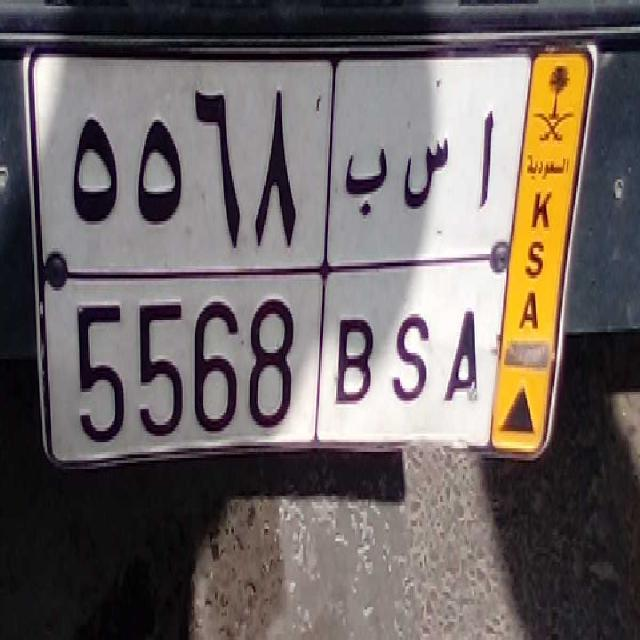license_plate: (62, 273, 497, 460)
